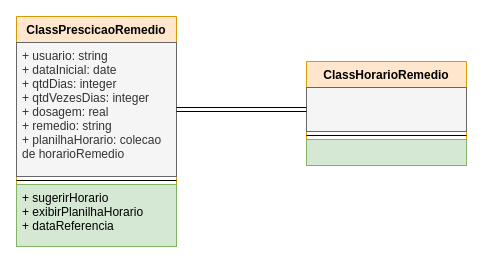
Some shapes in this 483 by 263 pixel diagram are drawn without their labels. The shapes that lost their labels are listed below. From the top down, each one's centre as x and y in pixels, then its label:
pixel 386 109: + data: date + horario: time
pixel 386 152: + cadastrarHorario
